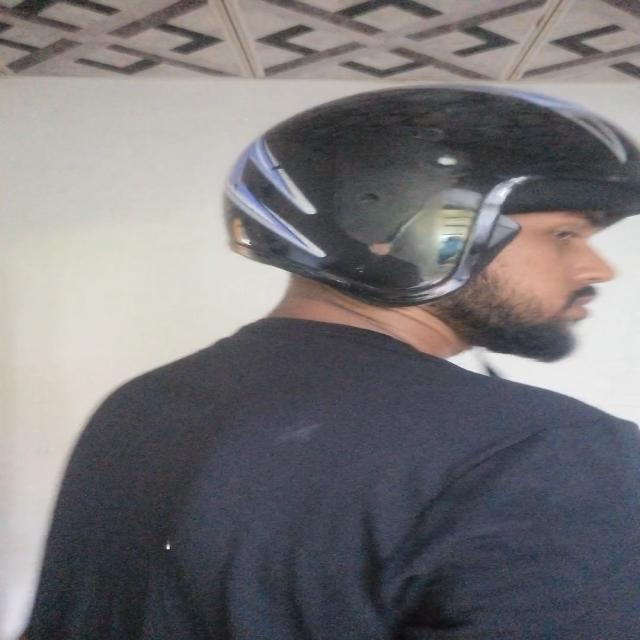Helmet_Wearer: (204, 59, 640, 438)
Person: (37, 81, 640, 640)
